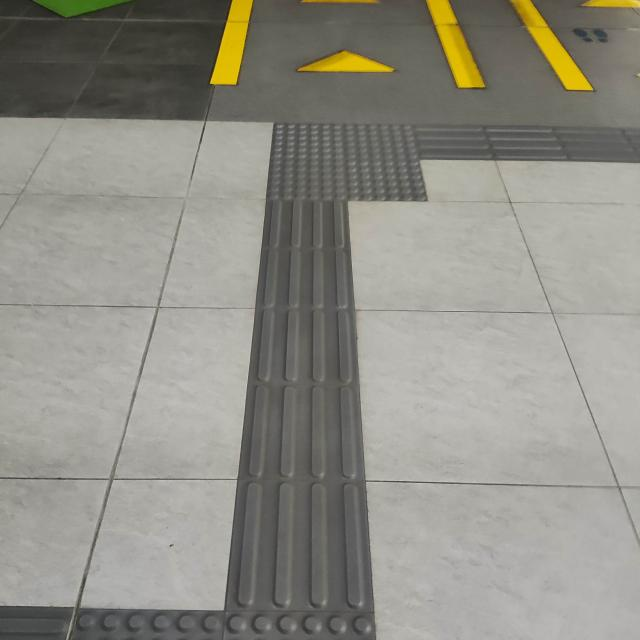kanan: (249, 98, 540, 221)
